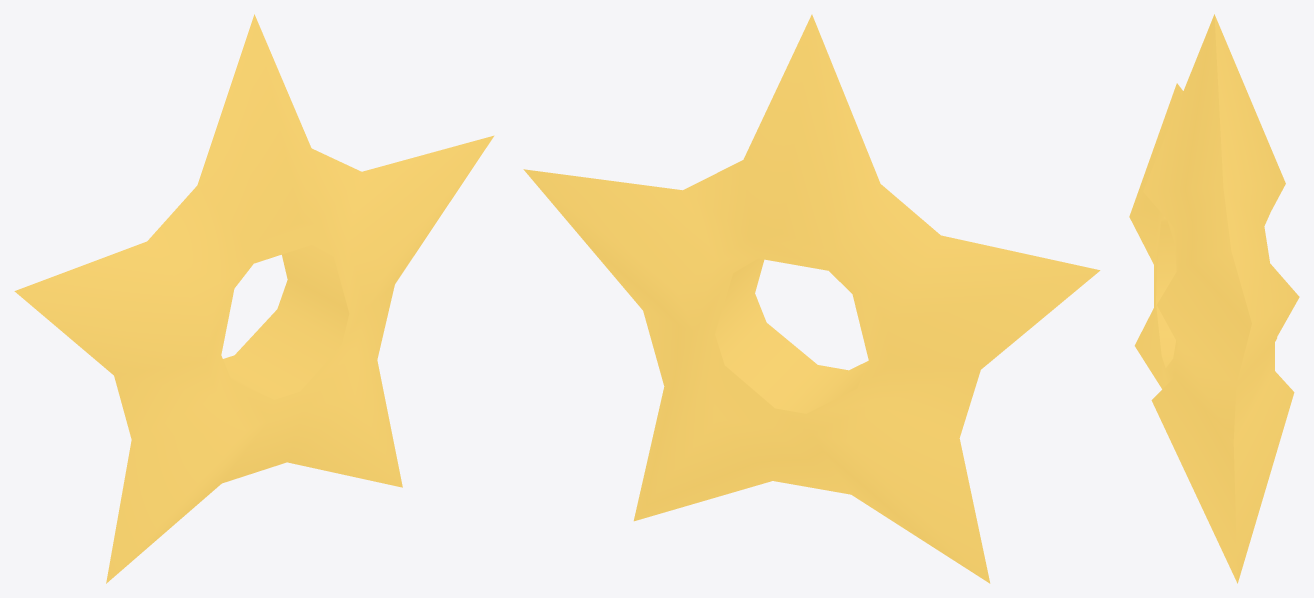
Rendered from Score.fbx.
3 views of the same model, side by side, from view 1: azimuth 30°, elevation 25°; view 2: azimuth 150°, elevation 25°; view 3: azimuth 270°, elevation 25° (orthographic). The views are drawn at different scales.
Visible parts, largest first — view 1: Disc; view 2: Disc; view 3: Disc.
Boxes of the visible parts, x1,y1,x2,y2 form: Disc: (14,14,494,583); Disc: (523,14,1100,583); Disc: (1129,14,1299,583).
Bounding box in the file's own units: 189 × 181 × 56.38.
